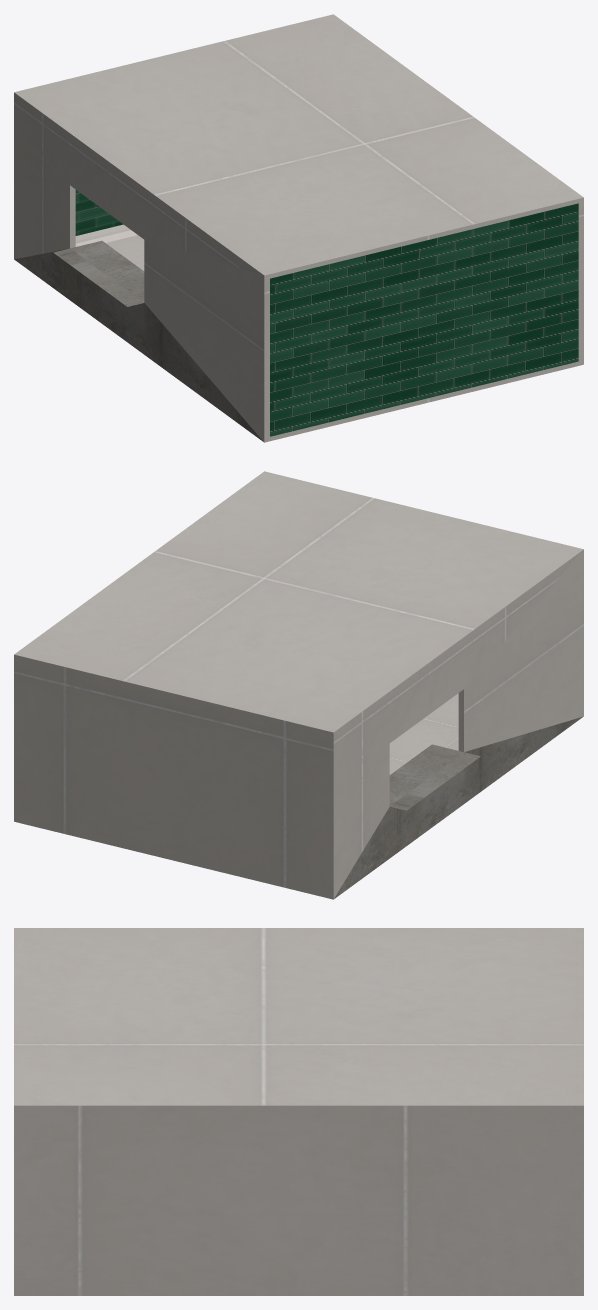
The model's file is FloorAndWalls.fbx.
3 renders of one model, top to bottom at view 1: azimuth 30°, elevation 25°; view 2: azimuth 150°, elevation 25°; view 3: azimuth 270°, elevation 25°, orthographic. The views are drawn at different scales.
Parts seen in each view (by area): view 1: Room; view 2: Room; view 3: Room.
Boxes of the visible parts, x1,y1,x2,y2 form: Room: (14, 14, 583, 442); Room: (14, 471, 583, 899); Room: (14, 928, 583, 1295).
Bounding box in the file's own units: 1923 × 912 × 2477.
4 materials, 4 textured.
